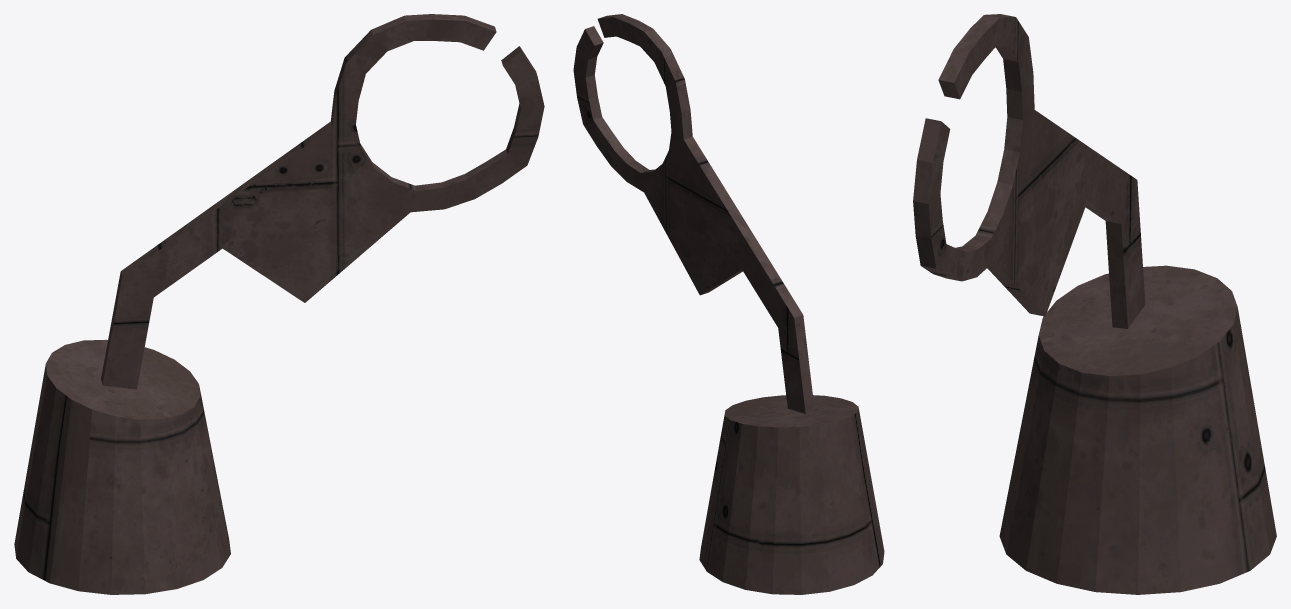
Rendered from Vista14.fbx.
3 views of the same model, side by side, from view 1: azimuth 30°, elevation 25°; view 2: azimuth 150°, elevation 25°; view 3: azimuth 270°, elevation 25° (orthographic). The views are drawn at different scales.
Parts seen in each view (by area): view 1: SM_ENV_STRUCT_ScrapYard_Vista_14.mo; view 2: SM_ENV_STRUCT_ScrapYard_Vista_14.mo; view 3: SM_ENV_STRUCT_ScrapYard_Vista_14.mo.
Boxes of the visible parts, box(x1,y1,x2,y2) form: SM_ENV_STRUCT_ScrapYard_Vista_14.mo: box(14, 14, 544, 594); SM_ENV_STRUCT_ScrapYard_Vista_14.mo: box(573, 14, 884, 594); SM_ENV_STRUCT_ScrapYard_Vista_14.mo: box(913, 14, 1276, 594).
Bounding box in the file's own units: 1342 × 1537 × 768.
1 material, 1 textured.
